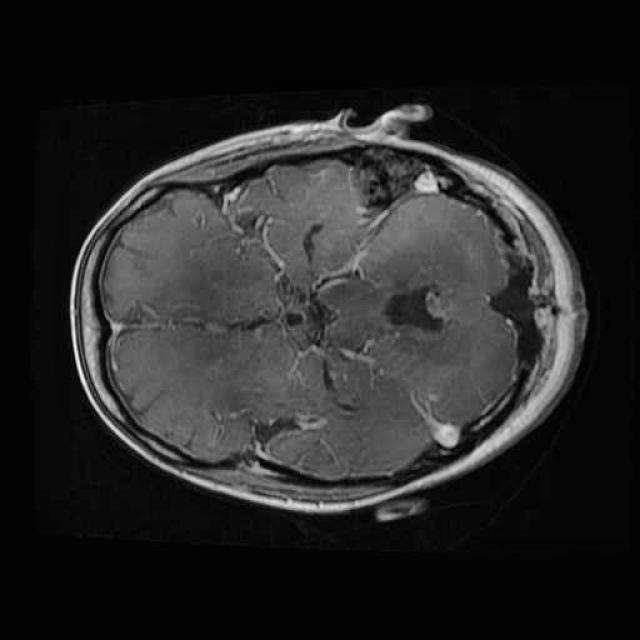Non-Tumor: (376, 274, 454, 341)
